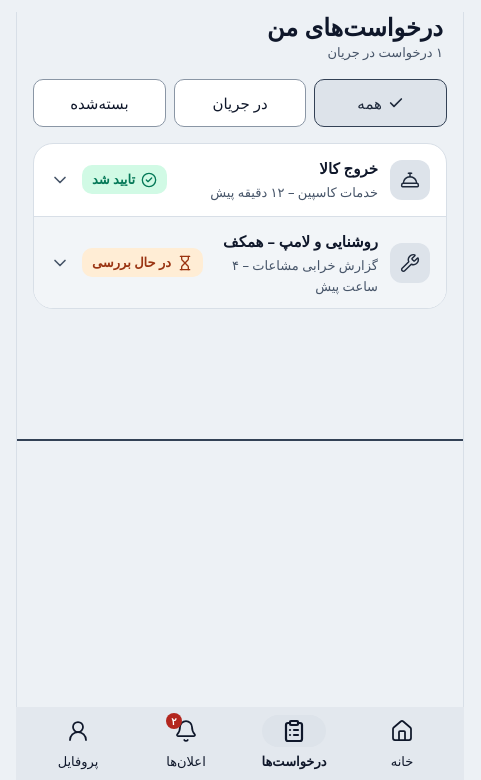
forms › requests tab lists tickets and expands details
What coordinates should you click on to do the following:
click the button "خروج کالا خدمات کاسپین – ۱۲ دقیقه پیش تایید شد"
I would click on:
 (410, 180)
Its box is [34,144,446,216].
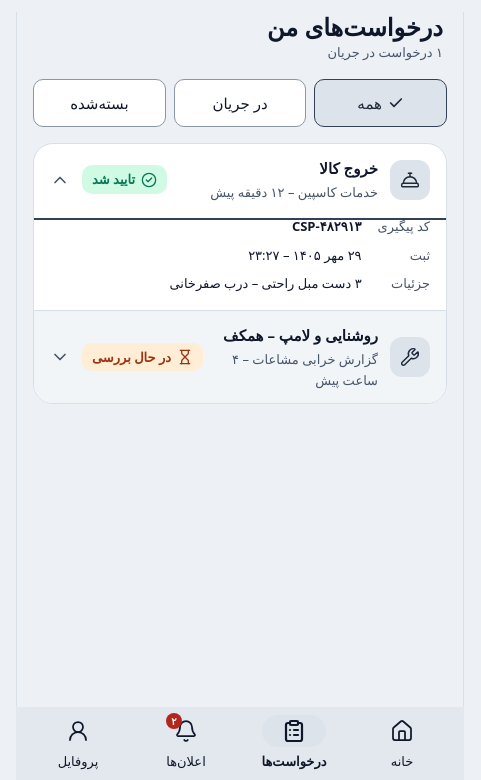
Expected: the text "CSP-۴۸۲۹۱۳" is shown, [292,217,362,235]
